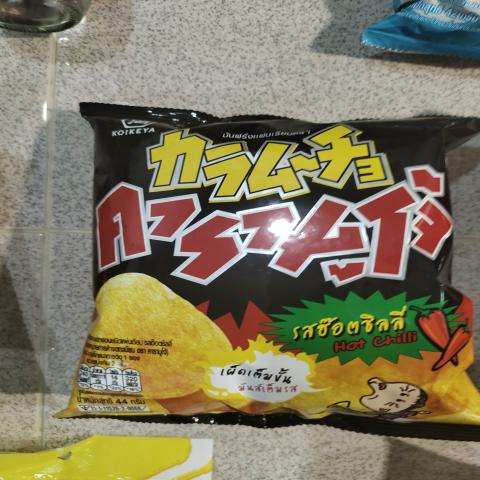karamujo: (70, 115, 463, 413)
